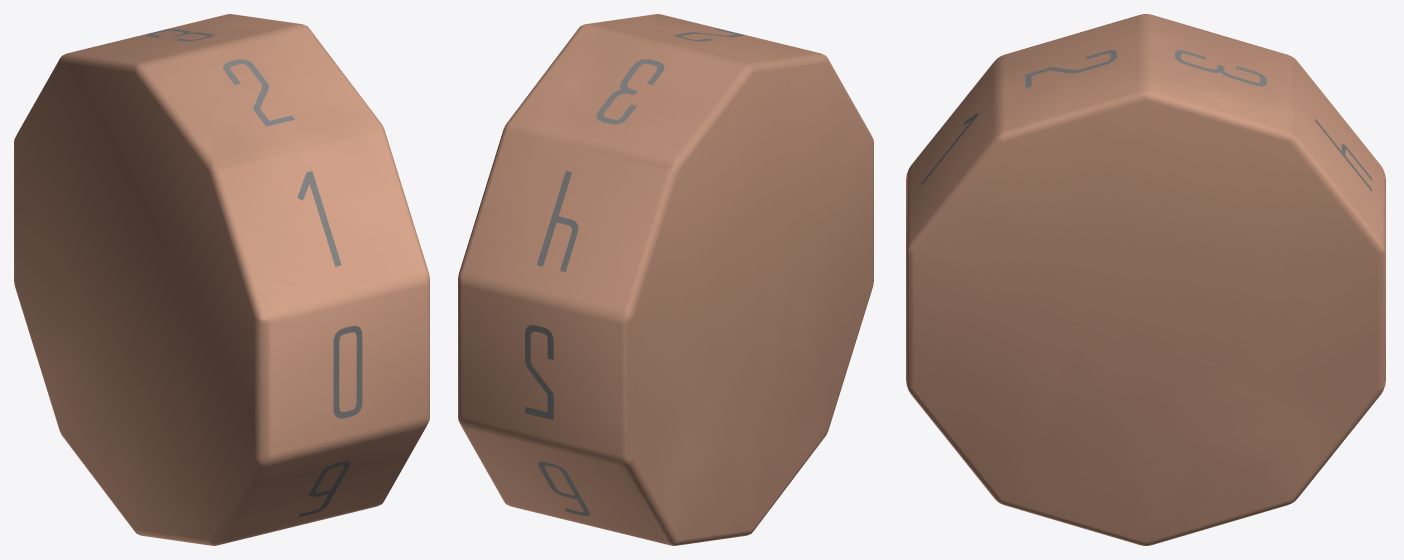
The model's file is Disk with numbers.fbx.
3 renders of one model, left to right at view 1: azimuth 30°, elevation 25°; view 2: azimuth 150°, elevation 25°; view 3: azimuth 270°, elevation 25°, orthographic. The views are drawn at different scales.
Parts seen in each view (by area): view 1: Disk; view 2: Disk; view 3: Disk.
Part boxes in pixels (x1,y1,x2,y2): Disk: [14, 14, 429, 545]; Disk: [458, 14, 873, 545]; Disk: [906, 14, 1385, 545].
Size of the model in its own units: 77.41 by 199 by 193.
